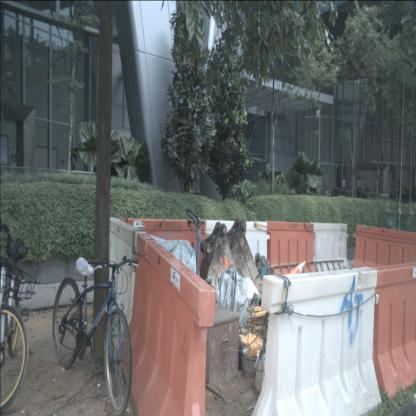barrier: (251, 266, 381, 415), (117, 231, 216, 416), (119, 216, 211, 292), (366, 265, 415, 400), (101, 214, 146, 357), (352, 222, 415, 296), (205, 220, 269, 288), (267, 220, 316, 281), (311, 220, 349, 275)
cone: (281, 260, 307, 293)
